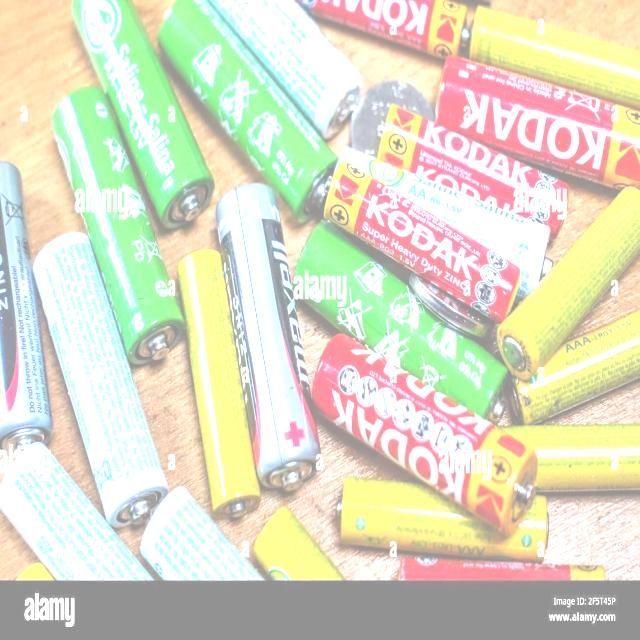AA: (308, 327, 543, 540), (152, 0, 342, 227), (30, 231, 171, 533), (46, 83, 189, 371), (214, 180, 325, 499), (323, 153, 523, 327), (70, 0, 217, 236), (432, 50, 640, 192), (496, 181, 640, 385), (176, 246, 264, 523)
